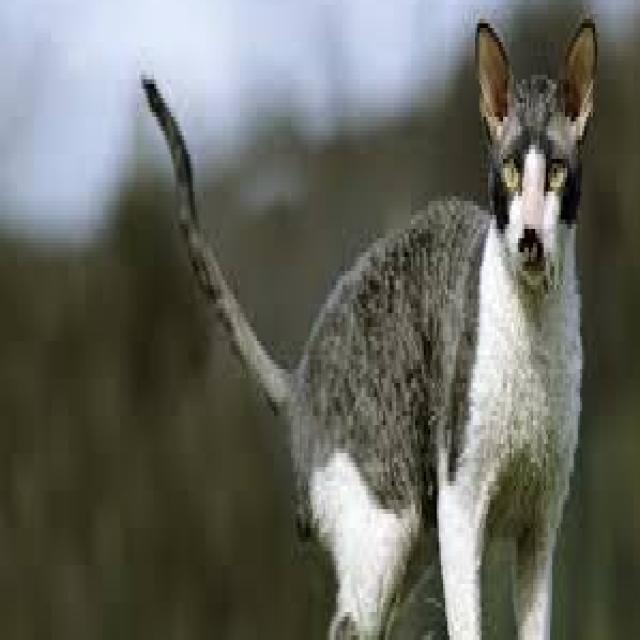Cornish Rex: (136, 4, 601, 640)
